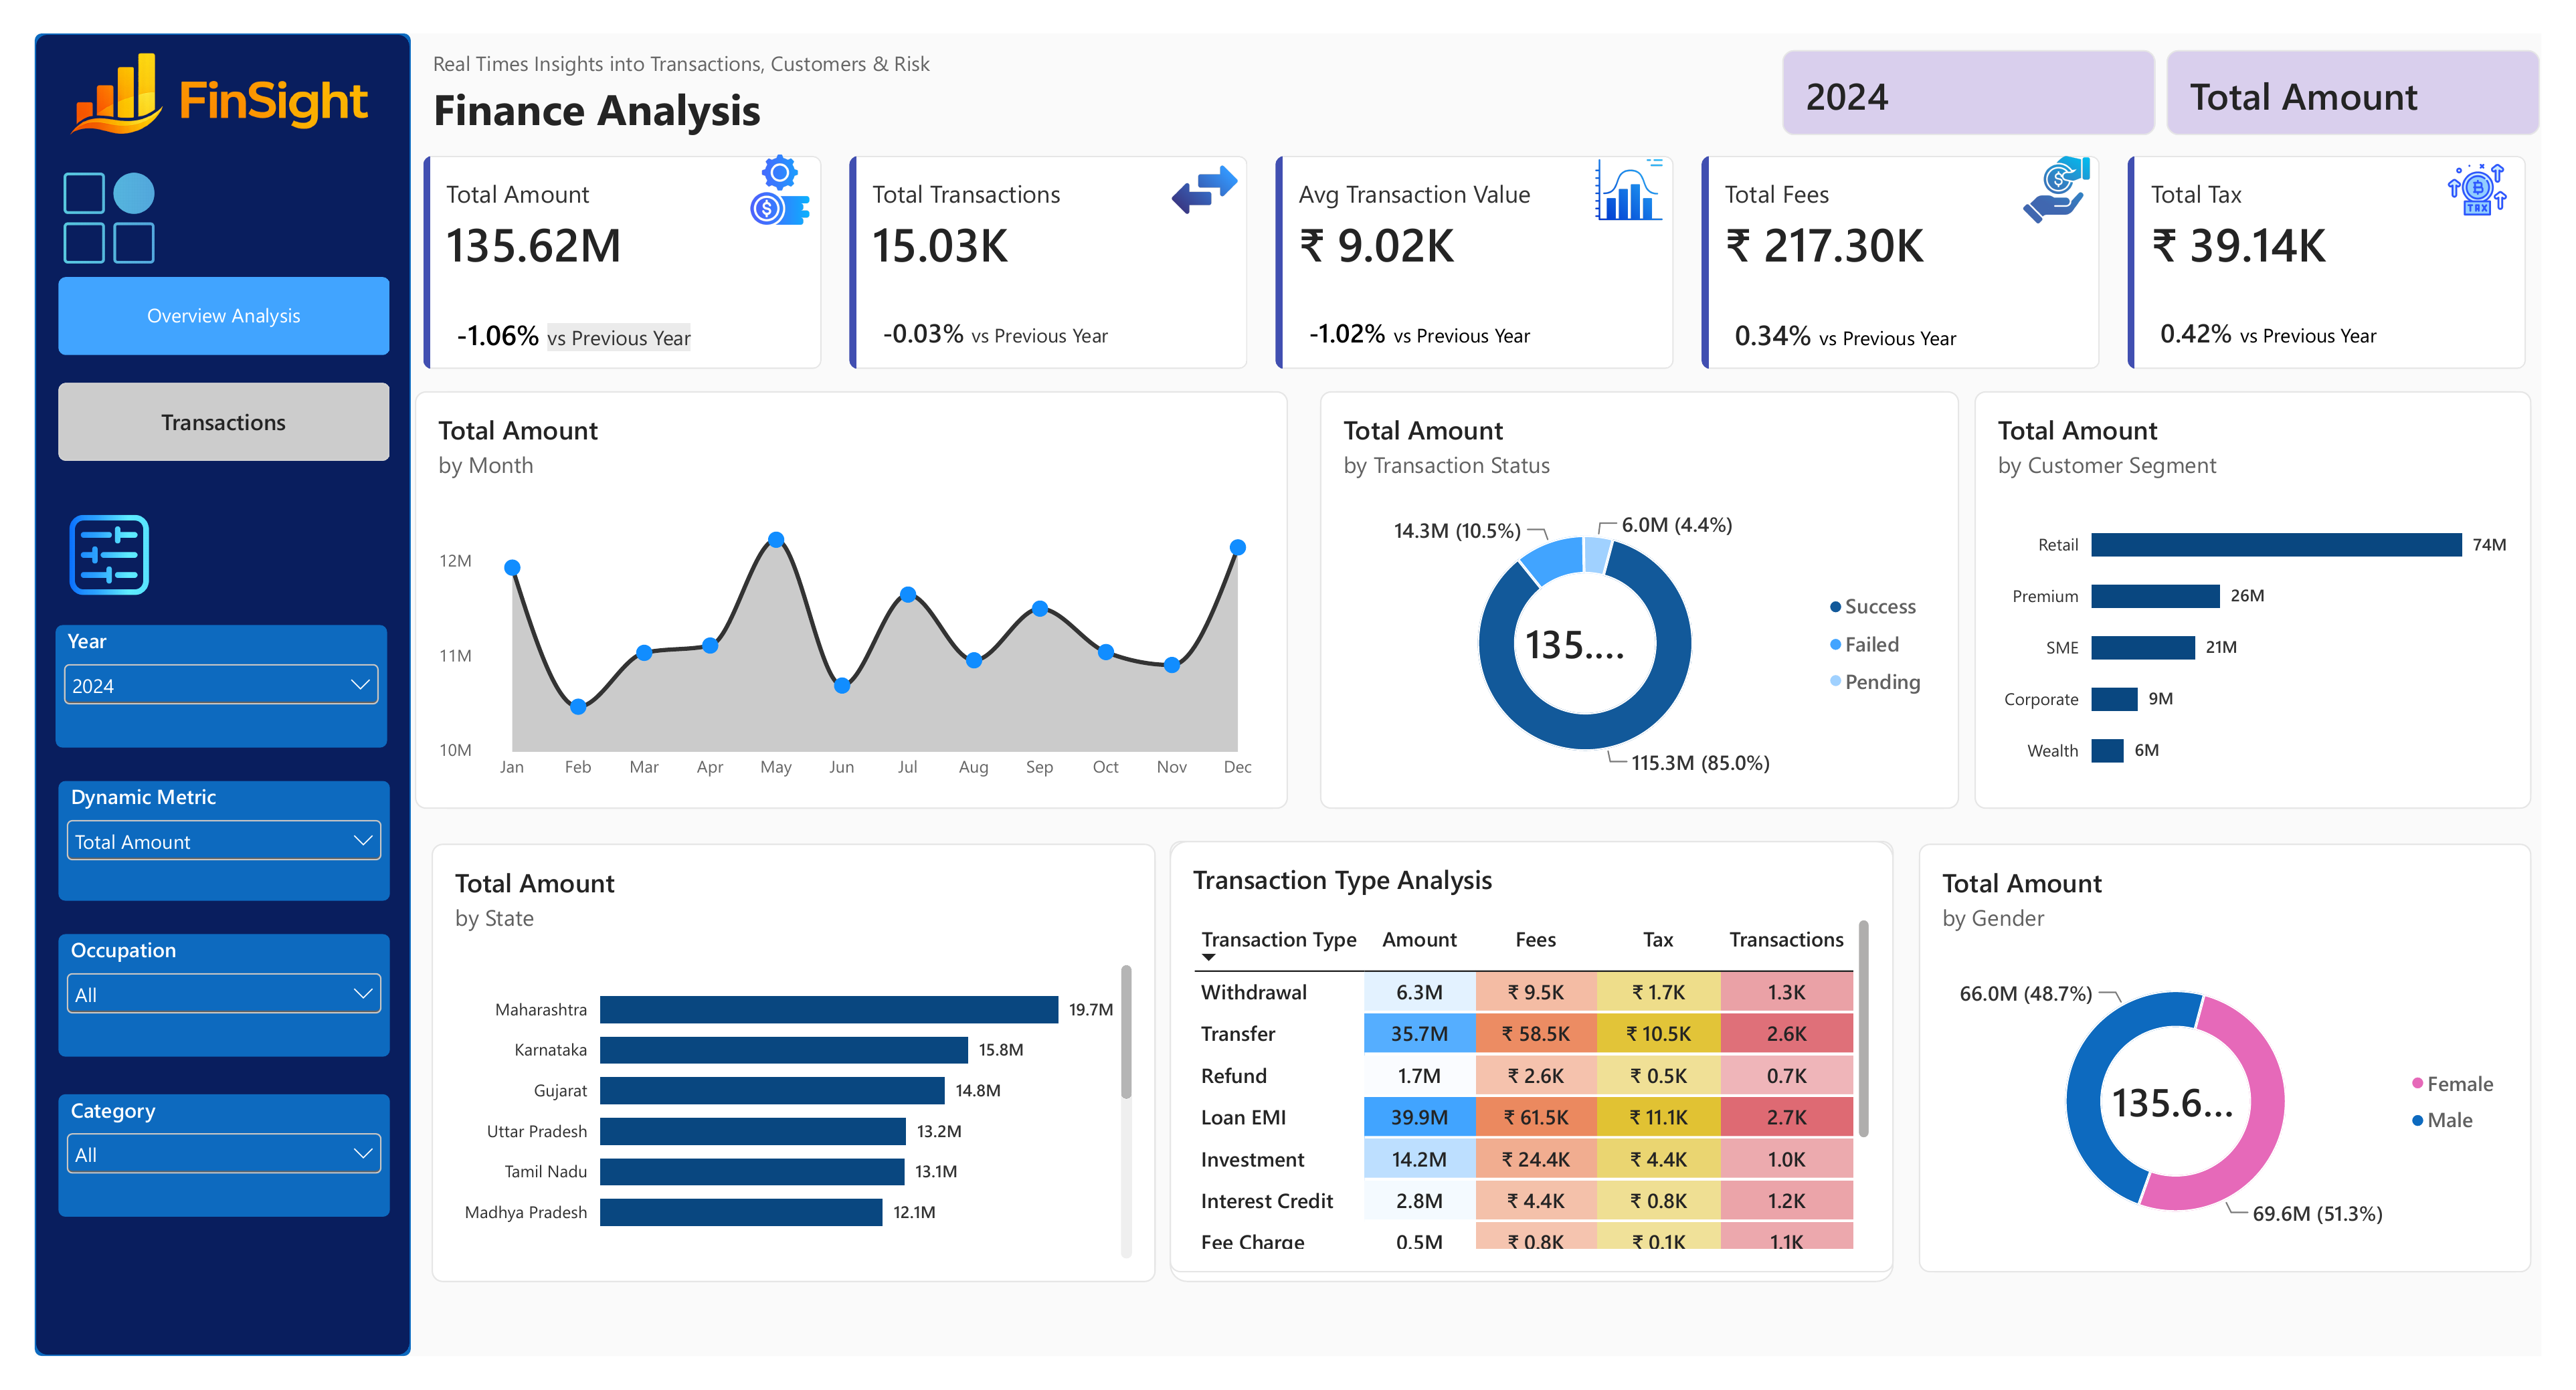

This screenshot's page, from the dashboard's own definition file:
{"tool":"powerbi","page":{"name":"Overview Analysis","canvas":[1800,950],"ordinal":0},"visuals":[{"type":"shape","box":[0,0,270,950],"z":0},{"type":"image","box":[0,0,270,86.7],"z":2000},{"type":"cardVisual","fields":{"Data":["finance_transactions.Dashboard Title"]},"box":[270,0,426.7,86.7],"z":3000},{"type":"cardVisual","fields":{"Data":["finance_transactions.Total Amount","finance_transactions.Total Transactions","finance_transactions.Avg Transaction Value","finance_transactions.Total Fees","finance_transactions.Total Tax"]},"box":[278.3,86.7,1515,155],"z":4000},{"type":"slicer","fields":{"Values":["Calendar Table.Year"]},"box":[15,425,238.3,88.3],"z":5000},{"type":"image","box":[510,86.7,50,50],"z":5001},{"type":"image","box":[815,86.7,50,50],"z":5002},{"type":"image","box":[1120,86.7,50,50],"z":5003},{"type":"image","box":[1426.7,86.7,50,50],"z":5004},{"type":"image","box":[1725,86.7,56.7,50],"z":5005},{"type":"slicer","fields":{"Values":["Dynamic Metric.Dynamic Metric"]},"box":[16.7,536.7,238.3,86.7],"z":5006},{"type":"shape","box":[285,256.7,615,300],"z":5007},{"type":"areaChart","fields":{"Category":["Calendar Table.Month"],"Y":["finance_transactions.Total Amount"]},"box":[273.3,256.7,626.7,300],"z":5008},{"type":"cardVisual","fields":{"Data":["finance_transactions.Selected Year","finance_transactions.Selected Dynamic Measure"]},"box":[1255,11.7,545,61.7],"z":5009},{"type":"shape","box":[923.3,256.7,458.3,300],"z":5011},{"type":"donutChart","fields":{"Category":["finance_transactions.transaction_status"],"Y":["finance_transactions.Total Amount"]},"box":[923.3,256.7,458.3,300],"z":5012},{"type":"shape","box":[1393.3,256.7,400,300],"z":5013},{"type":"barChart","fields":{"Category":["customers.customer_segment"],"Y":["finance_transactions.Total Amount"]},"box":[1393.3,256.7,400,300],"z":5014},{"type":"shape","box":[285,581.7,520,315],"z":5016},{"type":"barChart","fields":{"Category":["customers.state"],"Y":["finance_transactions.Total Amount"]},"box":[285,581.7,520,315],"z":5017},{"type":"shape","box":[815,580,520,316.7],"z":5018},{"type":"tableEx","title":"Transaction Type Analysis","fields":{"Values":["finance_transactions.transaction_type","finance_transactions.Total Amount","finance_transactions.Total Fees","finance_transactions.Total Tax","finance_transactions.Total Transactions"]},"box":[815,580,520,310],"z":5019},{"type":"shape","box":[1353.3,581.7,440,308.3],"z":5020},{"type":"donutChart","fields":{"Category":["customers.gender"],"Y":["finance_transactions.Total Amount"]},"box":[1353.3,581.7,440,308.3],"z":5021},{"type":"slicer","fields":{"Values":["customers.occupation"]},"box":[16.7,646.7,238.3,88.3],"z":5022},{"type":"slicer","fields":{"Values":["finance_transactions.merchant_category"]},"box":[16.7,761.7,238.3,88.3],"z":5023},{"type":"pageNavigator","box":[16.7,175,238.3,131.7],"z":5024},{"type":"image","box":[0,100,106.7,65],"z":5025},{"type":"image","box":[0,341.7,106.7,65],"z":5026}]}

Visuals, with their boxes on the page's 1800x950 design canvas (x1, y1, x2, y2). These are canvas units, not pixel positions in the 2576x1390 screenshot, which may show the page scaled, cropped or inside an application window:
shape: crop(0, 0, 270, 950)
image: crop(0, 0, 270, 87)
cardVisual - finance_transactions.Dashboard Title: crop(270, 0, 697, 87)
cardVisual - finance_transactions.Total Amount x finance_transactions.Total Transactions: crop(278, 87, 1793, 242)
slicer - Calendar Table.Year: crop(15, 425, 253, 513)
image: crop(510, 87, 560, 137)
image: crop(815, 87, 865, 137)
image: crop(1120, 87, 1170, 137)
image: crop(1427, 87, 1477, 137)
image: crop(1725, 87, 1782, 137)
slicer - Dynamic Metric.Dynamic Metric: crop(17, 537, 255, 623)
shape: crop(285, 257, 900, 557)
areaChart - Calendar Table.Month x finance_transactions.Total Amount: crop(273, 257, 900, 557)
cardVisual - finance_transactions.Selected Year x finance_transactions.Selected Dynamic Measure: crop(1255, 12, 1800, 73)
shape: crop(923, 257, 1382, 557)
donutChart - finance_transactions.transaction_status x finance_transactions.Total Amount: crop(923, 257, 1382, 557)
shape: crop(1393, 257, 1793, 557)
barChart - customers.customer_segment x finance_transactions.Total Amount: crop(1393, 257, 1793, 557)
shape: crop(285, 582, 805, 897)
barChart - customers.state x finance_transactions.Total Amount: crop(285, 582, 805, 897)
shape: crop(815, 580, 1335, 897)
"Transaction Type Analysis" tableEx: crop(815, 580, 1335, 890)
shape: crop(1353, 582, 1793, 890)
donutChart - customers.gender x finance_transactions.Total Amount: crop(1353, 582, 1793, 890)
slicer - customers.occupation: crop(17, 647, 255, 735)
slicer - finance_transactions.merchant_category: crop(17, 762, 255, 850)
pageNavigator: crop(17, 175, 255, 307)
image: crop(0, 100, 107, 165)
image: crop(0, 342, 107, 407)
